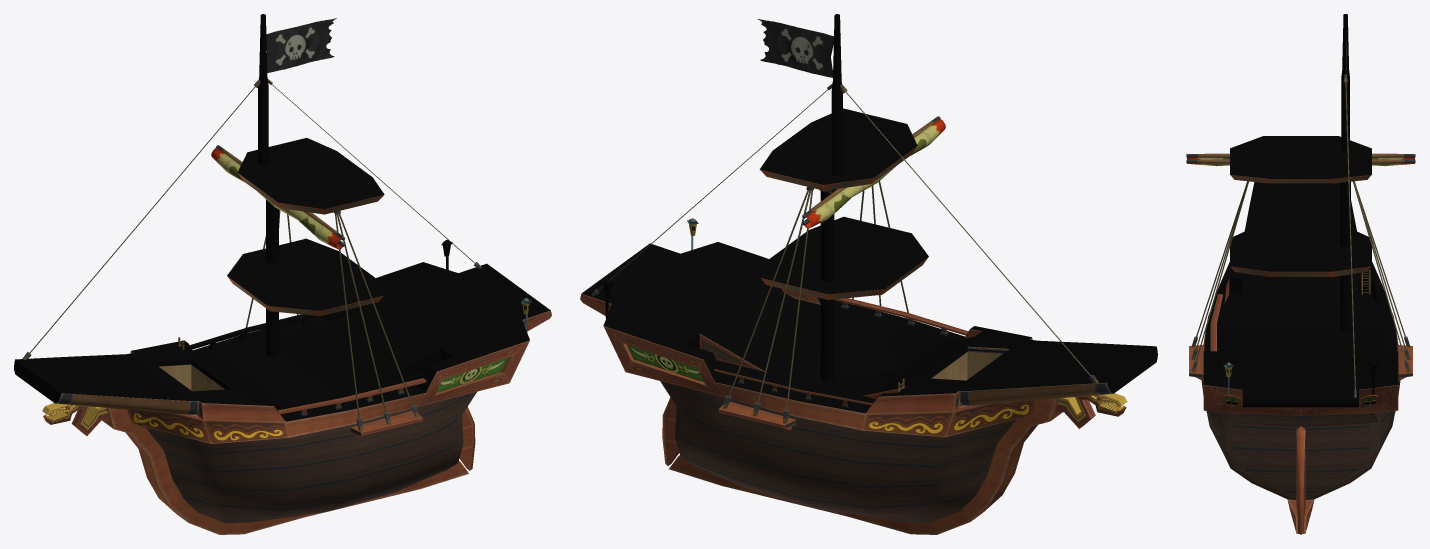
File: pirShi.fbx
3 views of the same model, side by side, from view 1: azimuth 30°, elevation 25°; view 2: azimuth 150°, elevation 25°; view 3: azimuth 270°, elevation 25° (orthographic). The views are drawn at different scales.
Visible parts, largest first — view 1: polygon25; view 2: polygon25; view 3: polygon25.
Boxes of the visible parts, x1=… form: polygon25: x1=14, y1=14, x2=551, y2=534; polygon25: x1=580, y1=14, x2=1157, y2=534; polygon25: x1=1186, y1=14, x2=1415, y2=534.
Size of the model in its own units: 175 by 167 by 78.54.
9 materials, 9 textured.
